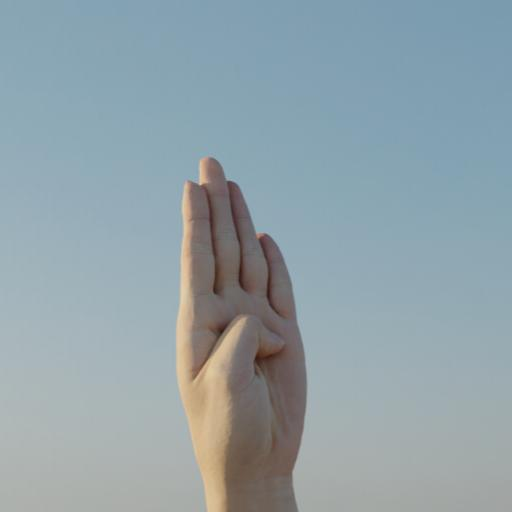B: (165, 148, 325, 491)
